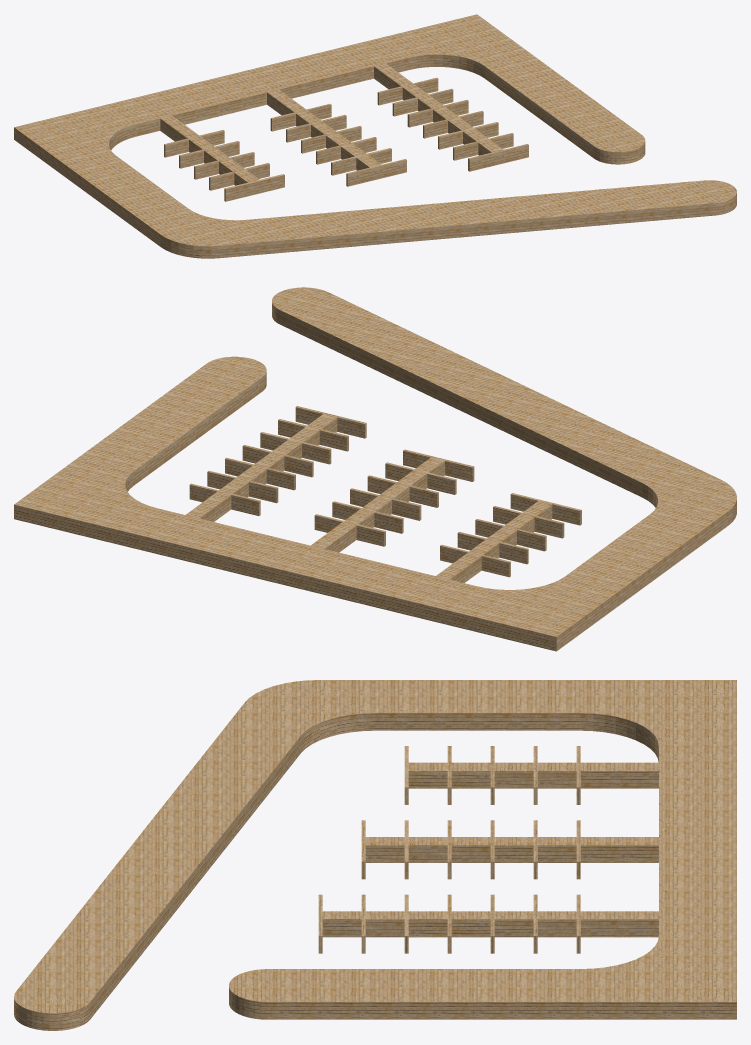
The model's file is port.dae.
3 renders of one model, top to bottom at view 1: azimuth 30°, elevation 25°; view 2: azimuth 150°, elevation 25°; view 3: azimuth 270°, elevation 25°, orthographic. The views are drawn at different scales.
Parts seen in each view (by area): view 1: port; view 2: port; view 3: port.
Boxes of the visible parts, x1,y1,x2,y2 form: port: [14, 14, 736, 258]; port: [14, 287, 736, 651]; port: [14, 680, 736, 1030].
Bounding box in the file's own units: 17.59 × 16.13 × 0.436.
Materials: 1 (1 with a texture image).
